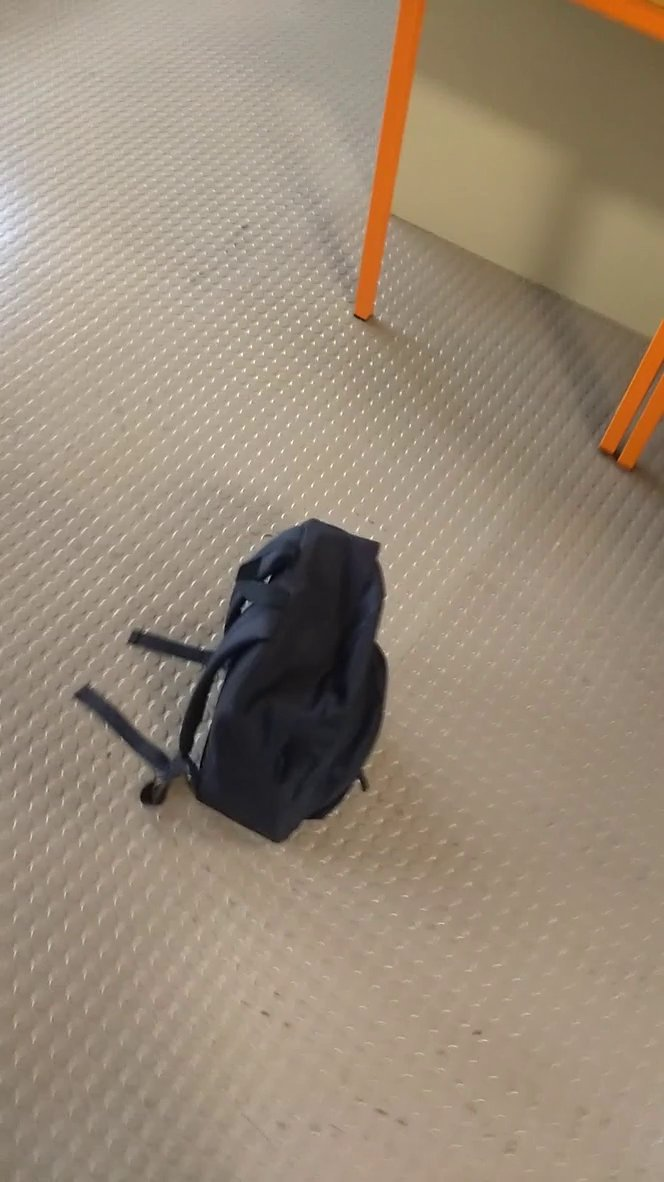bag: (58, 507, 424, 864)
